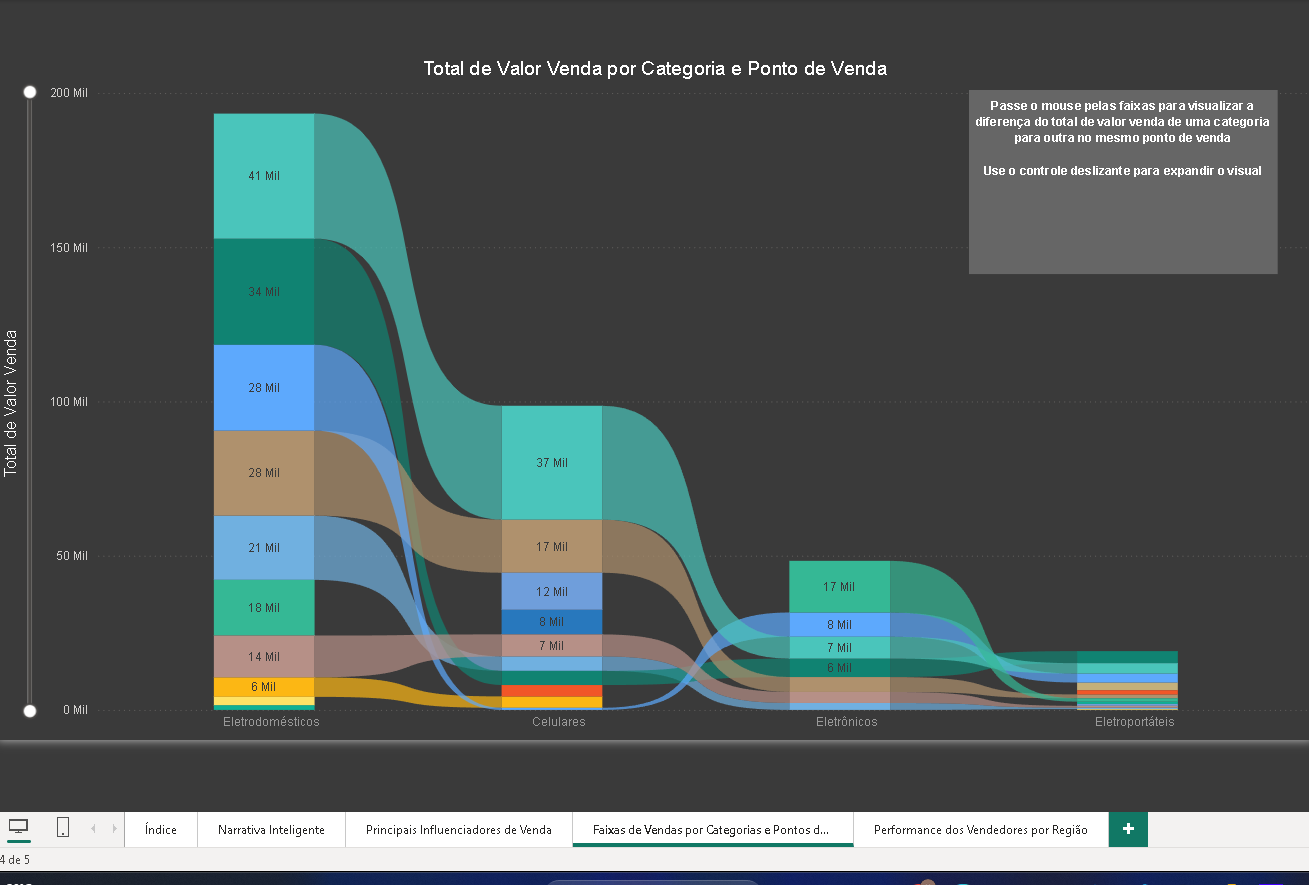

Layout of this report page (visuals, bound fields, positions):
{"tool":"powerbi","page":{"name":"Faixas de Vendas por Categorias e Pontos de Venda","canvas":[1280,720],"ordinal":3},"visuals":[{"type":"ribbonChart","title":"Total de Valor Venda por Categoria e Ponto de Venda","fields":{"Y":["Sum(Vendas.ValorVenda)"],"Series":["Vendas.Loja"],"Category":["Vendas.Categoria"]},"box":[0,54.5,1280,665.3],"z":0},{"type":"textbox","box":[945.4,87.5,299.6,179],"z":1000}]}

Visuals, with their boxes on the page's 1280x720 design canvas (x1, y1, x2, y2). These are canvas units, not pixel positions in the 1309x885 screenshot, which may show the page scaled, cropped or inside an application window:
"Total de Valor Venda por Categoria e Ponto de Venda" ribbonChart: 0 54 1280 720
textbox: 945 88 1245 266
